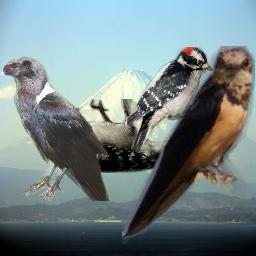Crow: (0, 56, 110, 201)
Swallow: (122, 46, 255, 244)
Woodpecker: (35, 99, 202, 173), (126, 47, 219, 153)
